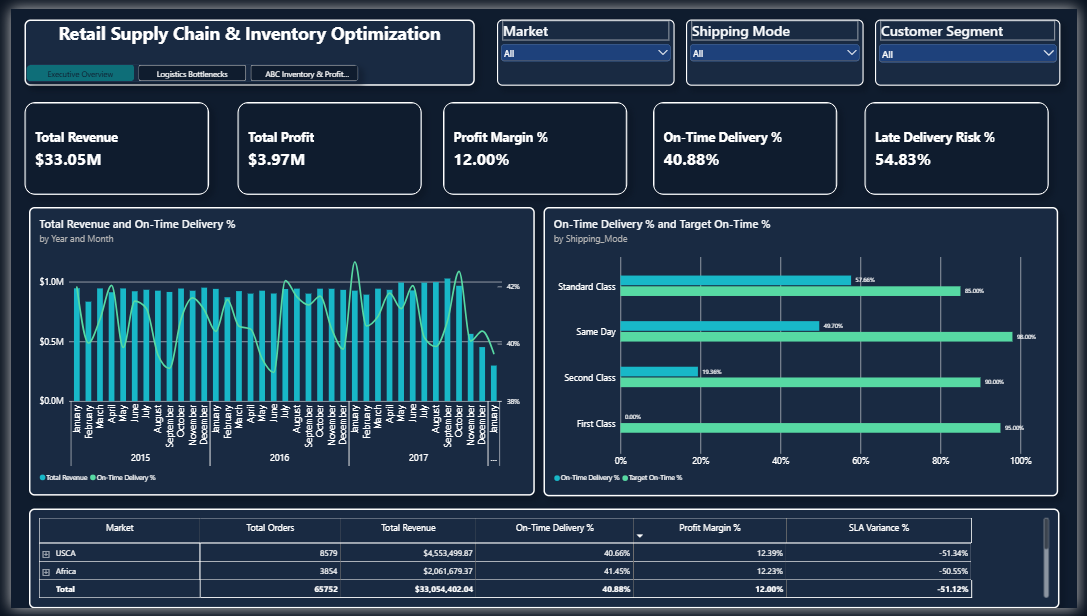

The dashboard page shown, as its layout file describes it:
{"tool":"powerbi","page":{"name":"Executive Overview","canvas":[1920,1080],"ordinal":0},"visuals":[{"type":"textbox","box":[23.9,19.1,811.2,119.3],"z":0},{"type":"slicer","fields":{"Values":["vw_fact_orders.market"]},"box":[875.6,19.1,319.7,119.3],"z":1000},{"type":"slicer","fields":{"Values":["vw_dim_customers.customer_segment"]},"box":[1555.6,19.1,334,119.3],"z":2000},{"type":"slicer","fields":{"Values":["vw_fact_orders.shipping_mode"]},"box":[1216.8,19.1,319.7,119.3],"z":3000},{"type":"cardVisual","fields":{"Data":["vw_fact_orders.Total Revenue"]},"box":[23.9,167,332.5,167.5],"z":4000},{"type":"cardVisual","fields":{"Data":["vw_fact_orders.Profit Margin %"]},"box":[777.8,167,332,167.5],"z":5000},{"type":"cardVisual","fields":{"Data":["vw_fact_orders.On-Time Delivery %"]},"box":[1157.2,167,332,167.5],"z":6000},{"type":"cardVisual","fields":{"Data":["vw_fact_orders.Late Delivery Risk %"]},"box":[1536.5,167,332,167],"z":7000},{"type":"cardVisual","fields":{"Data":["vw_fact_orders.Total Profit"]},"box":[408,167,332,167.5],"z":8000},{"type":"lineClusteredColumnComboChart","fields":{"Category":["Dim_Calendar.Date.Variation.Date Hierarchy.Year","Dim_Calendar.Date.Variation.Date Hierarchy.Month"],"Y":["vw_fact_orders.Total Revenue"],"Y2":["vw_fact_orders.On-Time Delivery %"]},"box":[33.4,357.9,911.4,520.1],"z":9000},{"type":"clusteredBarChart","fields":{"Category":["03_SLA_Targets.Shipping_Mode"],"Y":["vw_fact_orders.On-Time Delivery %","vw_fact_orders.Target On-Time %"]},"box":[960.6,357.6,927.3,521.2],"z":10000},{"type":"pivotTable","fields":{"Rows":["vw_fact_orders.market","vw_fact_orders.order_region"],"Values":["vw_fact_orders.Total Orders","vw_fact_orders.Total Revenue","vw_fact_orders.On-Time Delivery %","vw_fact_orders.Profit Margin %","vw_fact_orders.SLA Variance %"]},"box":[33.3,900,1856.7,180],"z":11000},{"type":"pageNavigator","box":[25.7,100,600,31.4],"z":12001}]}

Visuals, with their boxes in screenshot pixels (x1, y1, x2, y2), scaled from the page's 1920x1080 canvas onto the 1087x616 screenshot:
textbox: crop(14, 11, 473, 79)
slicer - vw_fact_orders.market: crop(496, 11, 677, 79)
slicer - vw_dim_customers.customer_segment: crop(881, 11, 1070, 79)
slicer - vw_fact_orders.shipping_mode: crop(689, 11, 870, 79)
cardVisual - vw_fact_orders.Total Revenue: crop(14, 95, 202, 191)
cardVisual - vw_fact_orders.Profit Margin %: crop(440, 95, 628, 191)
cardVisual - vw_fact_orders.On-Time Delivery %: crop(655, 95, 843, 191)
cardVisual - vw_fact_orders.Late Delivery Risk %: crop(870, 95, 1058, 191)
cardVisual - vw_fact_orders.Total Profit: crop(231, 95, 419, 191)
lineClusteredColumnComboChart - Dim_Calendar.Date.Variation.Date Hierarchy.Year x Dim_Calendar.Date.Variation.Date Hierarchy.Month: crop(19, 204, 535, 501)
clusteredBarChart - 03_SLA_Targets.Shipping_Mode x vw_fact_orders.On-Time Delivery %: crop(544, 204, 1069, 501)
pivotTable - vw_fact_orders.market x vw_fact_orders.order_region: crop(19, 513, 1070, 615)
pageNavigator: crop(15, 57, 354, 75)
